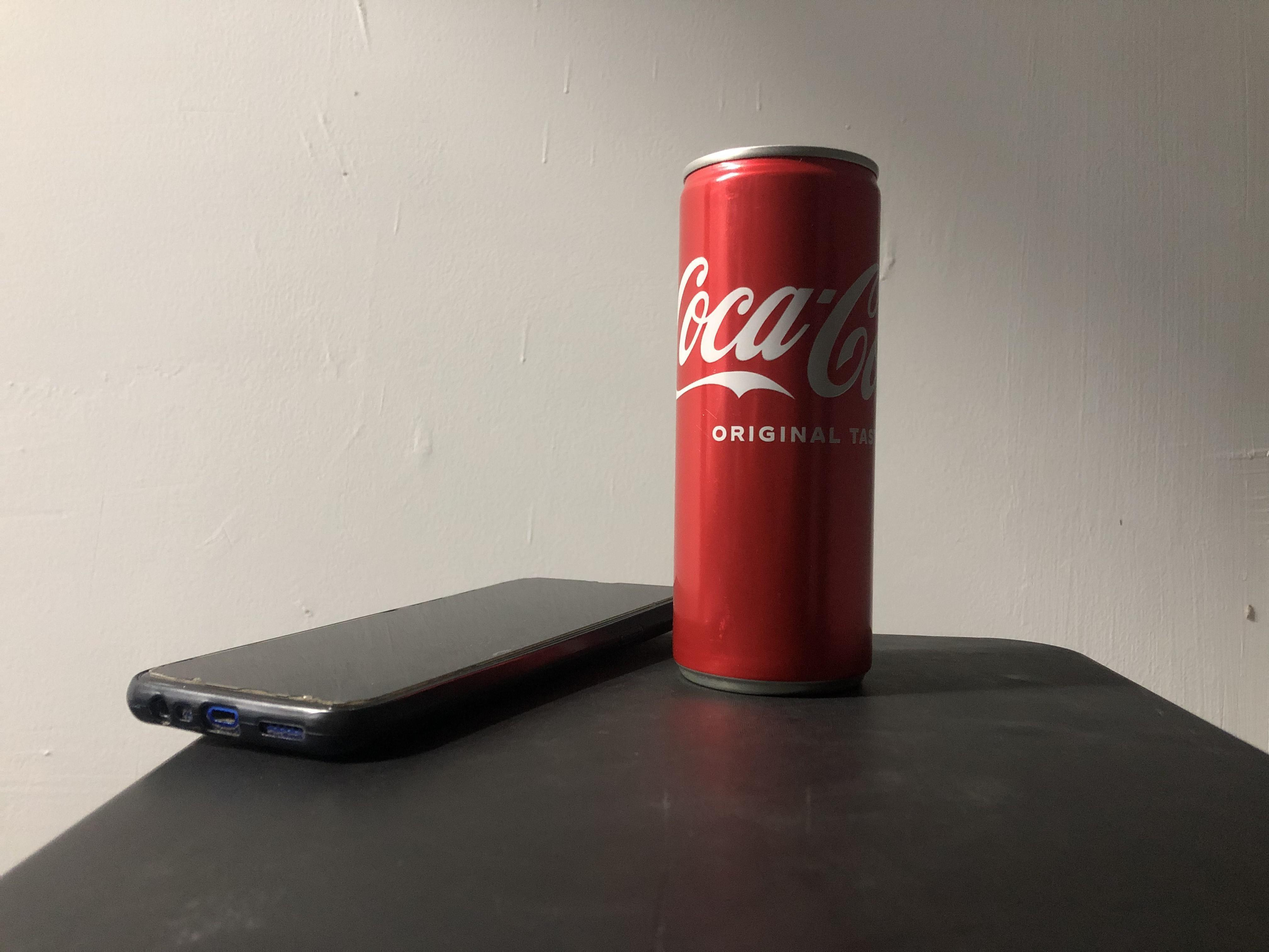tin can: (670, 142, 884, 695)
